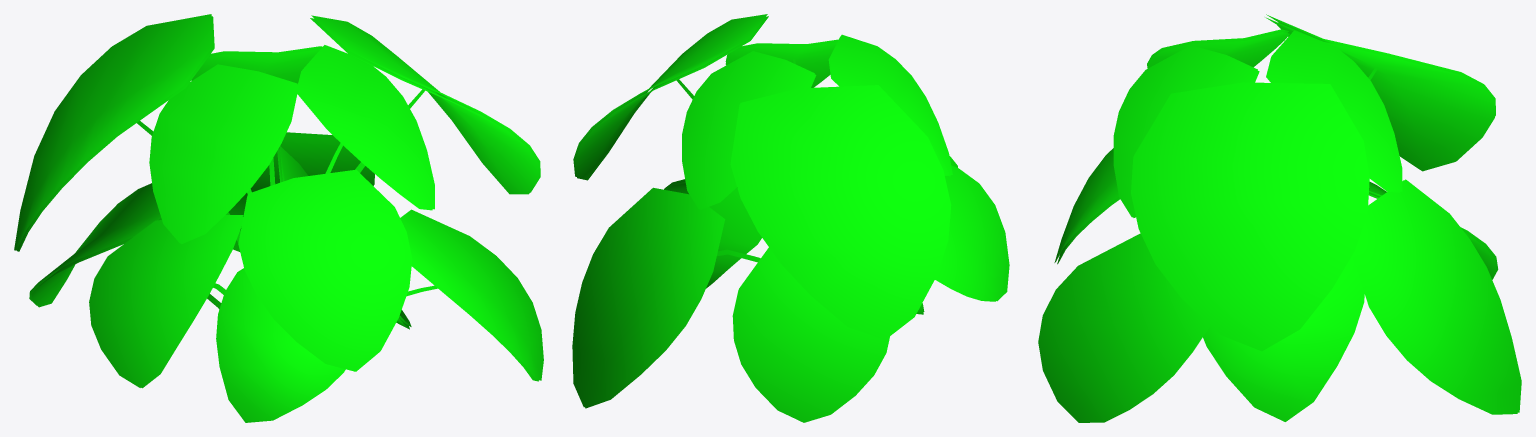
The model's file is PointyPalm_Small_2018.FBX.
3 views of the same model, side by side, from view 1: azimuth 30°, elevation 25°; view 2: azimuth 150°, elevation 25°; view 3: azimuth 270°, elevation 25° (orthographic). The views are drawn at different scales.
Parts seen in each view (by area): view 1: PointyPalmSmall_LOD0; view 2: PointyPalmSmall_LOD0; view 3: PointyPalmSmall_LOD0.
Boxes of the visible parts, x1=… form: PointyPalmSmall_LOD0: x1=14, y1=14, x2=543, y2=422; PointyPalmSmall_LOD0: x1=572, y1=14, x2=1009, y2=422; PointyPalmSmall_LOD0: x1=1038, y1=14, x2=1521, y2=422.
Size of what is drawn, in the model's own units: 8.43 by 6.16 by 8.24.
